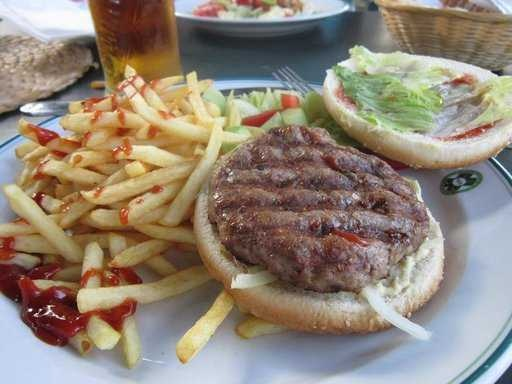hamburger: (192, 114, 453, 334)
